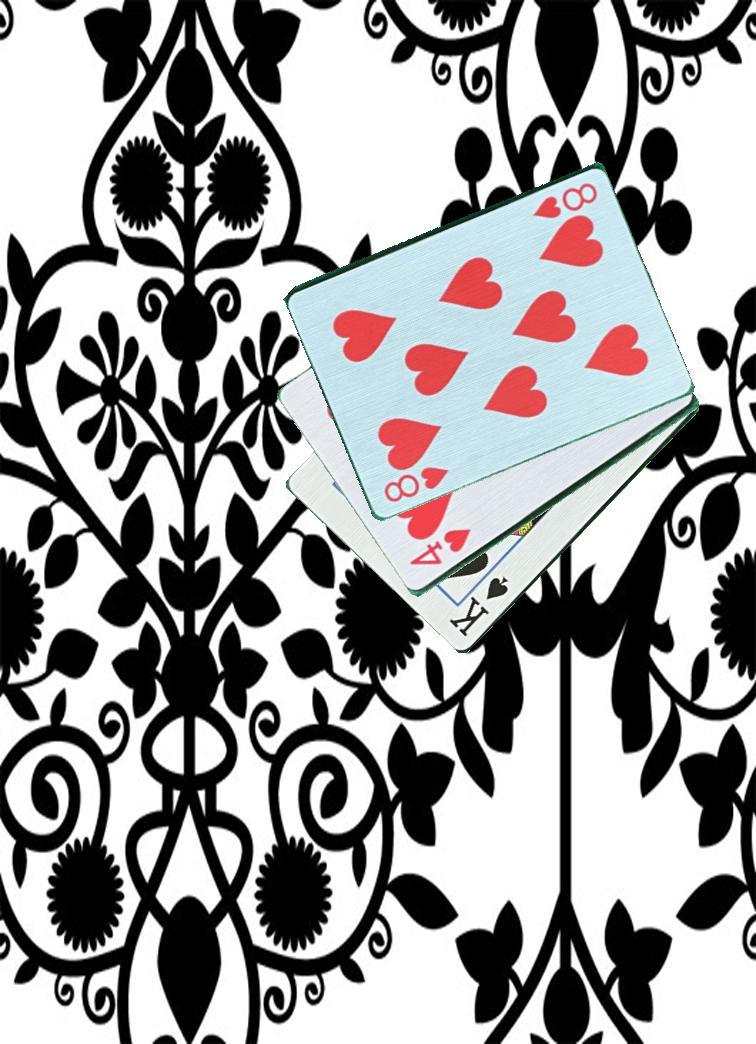4h: (405, 525, 475, 570)
8h: (522, 179, 601, 223), (380, 463, 452, 506)
ks: (446, 573, 512, 641)
